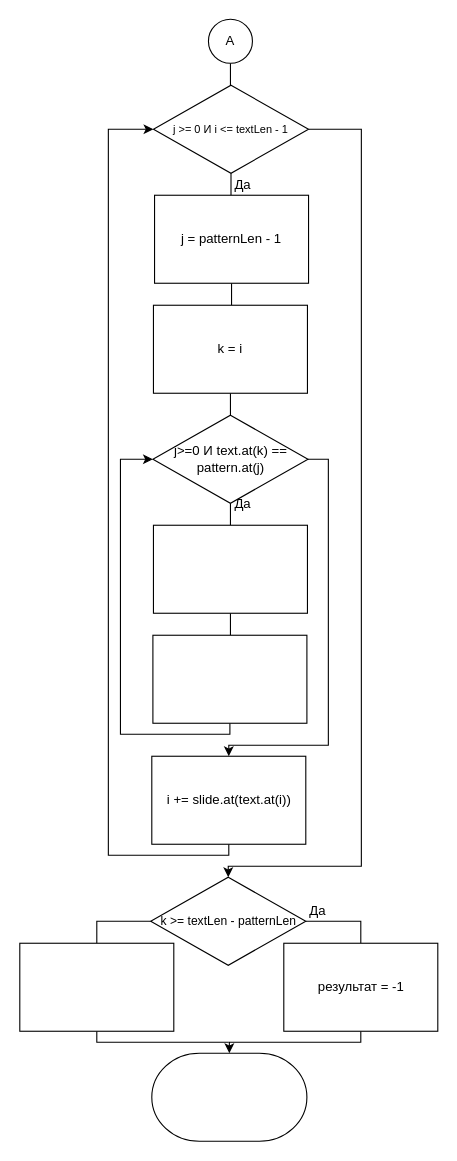
Some shapes in this 457 by 1161 pixel diagram are drawn without their labels. The shapes that lost their labels are listed below. From the top down, each one's box as (x1, y1, x2, y2) in pixels, then its label:
(152, 524, 307, 613): k -= 1
(152, 634, 307, 723): j -= 1
(19, 942, 174, 1031): результат = k + 1
(151, 1052, 307, 1141): Конец
